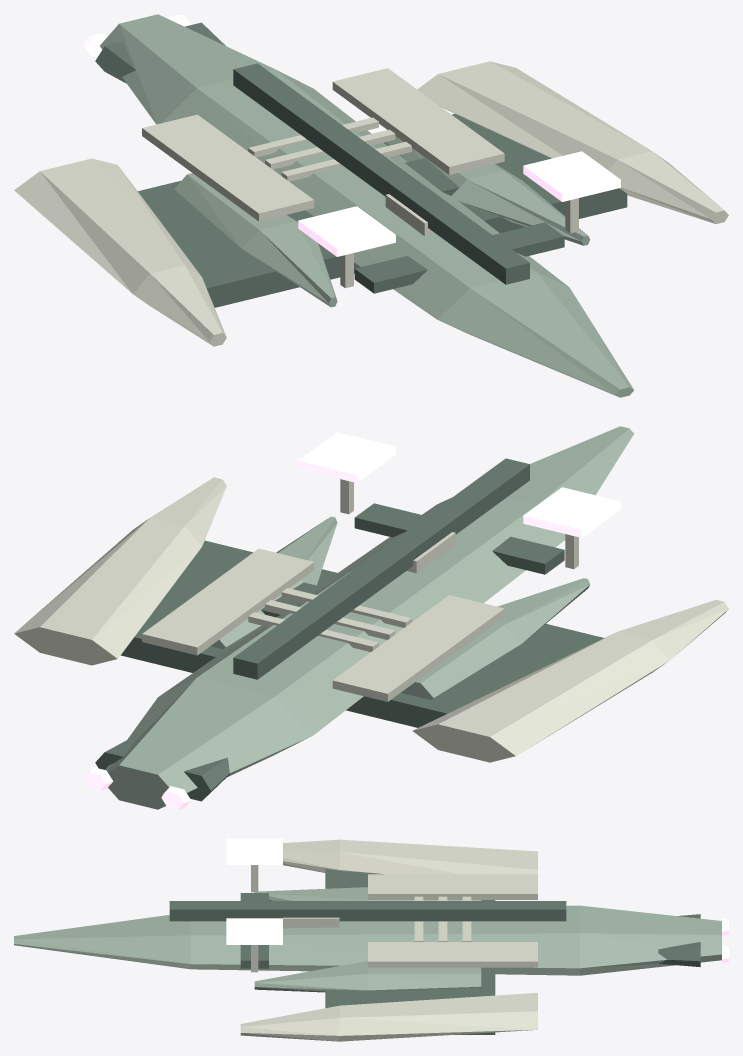
3 renders of one model, top to bottom at view 1: azimuth 30°, elevation 25°; view 2: azimuth 150°, elevation 25°; view 3: azimuth 270°, elevation 25°, orthographic. The views are drawn at different scales.
Bounding box in the file's own units: 7.01 × 1.25 × 11.11.
